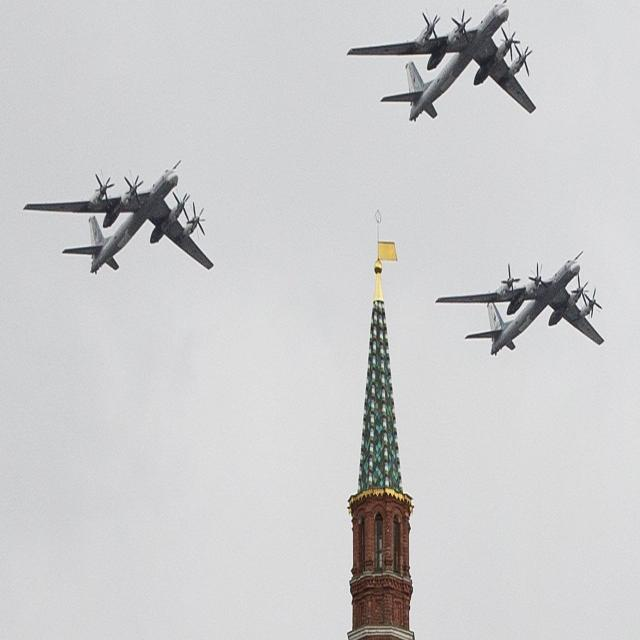MIL_Plane: (435, 250, 605, 356), (58, 160, 180, 276), (390, 1, 492, 122)
